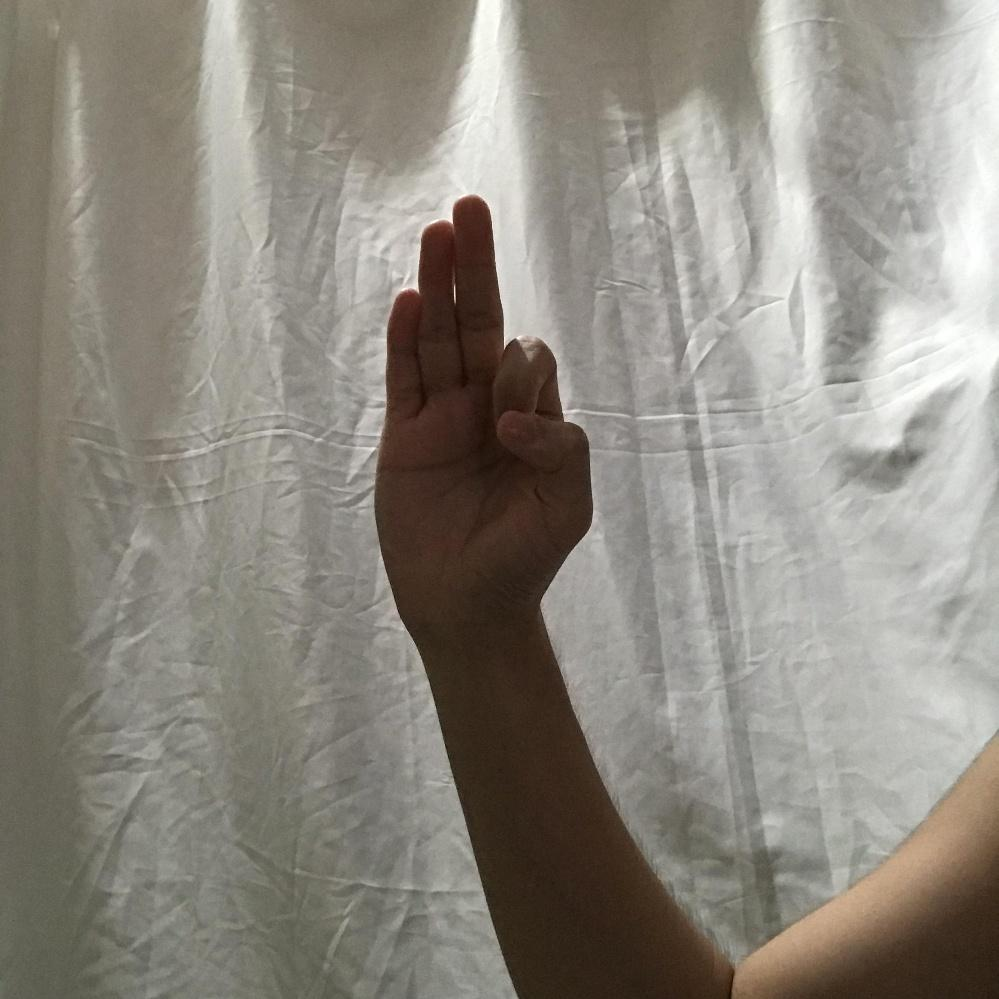f: (374, 195, 591, 622)
